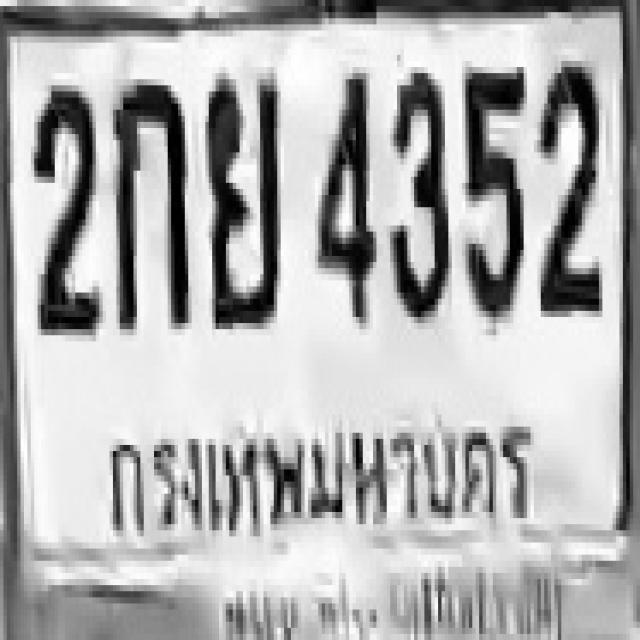10GorGai: (109, 73, 185, 323)
2: (31, 79, 96, 329), (536, 58, 597, 308)
3: (387, 67, 448, 317)
4: (315, 67, 373, 317)
43YorYak: (202, 67, 277, 323)
5: (462, 64, 520, 314)
Bangkok: (102, 404, 548, 548)
